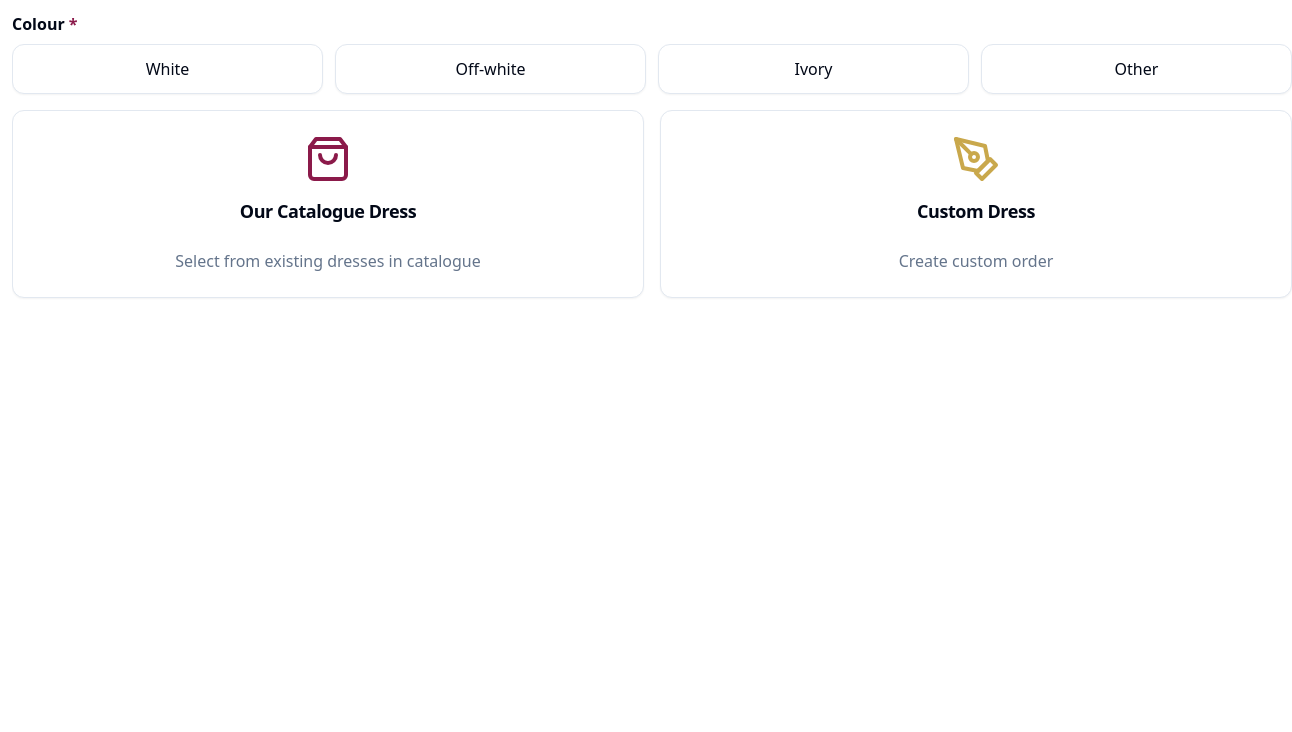
Test: Section2DressSelect › should show catalogue mode when catalogue card is clicked
Click the text "Our Catalogue Dress" at point(328, 211), box top-left (240, 199), bottom-right (416, 223)
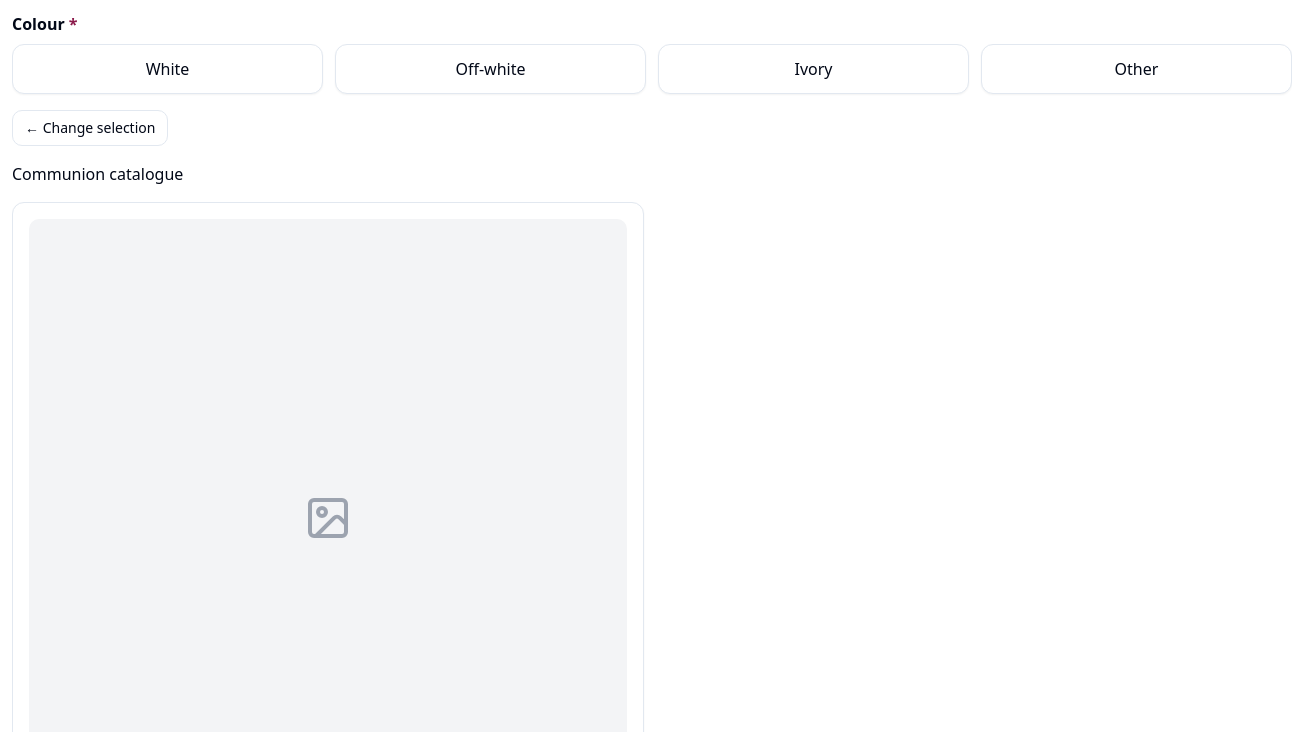
Expected: the heading "Communion catalogue" is shown, top-left (12, 163), bottom-right (183, 185)
